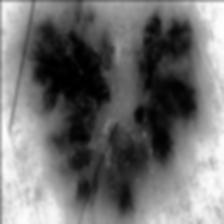Potentially Malignant Skin Tumors: (13, 11, 213, 215)
